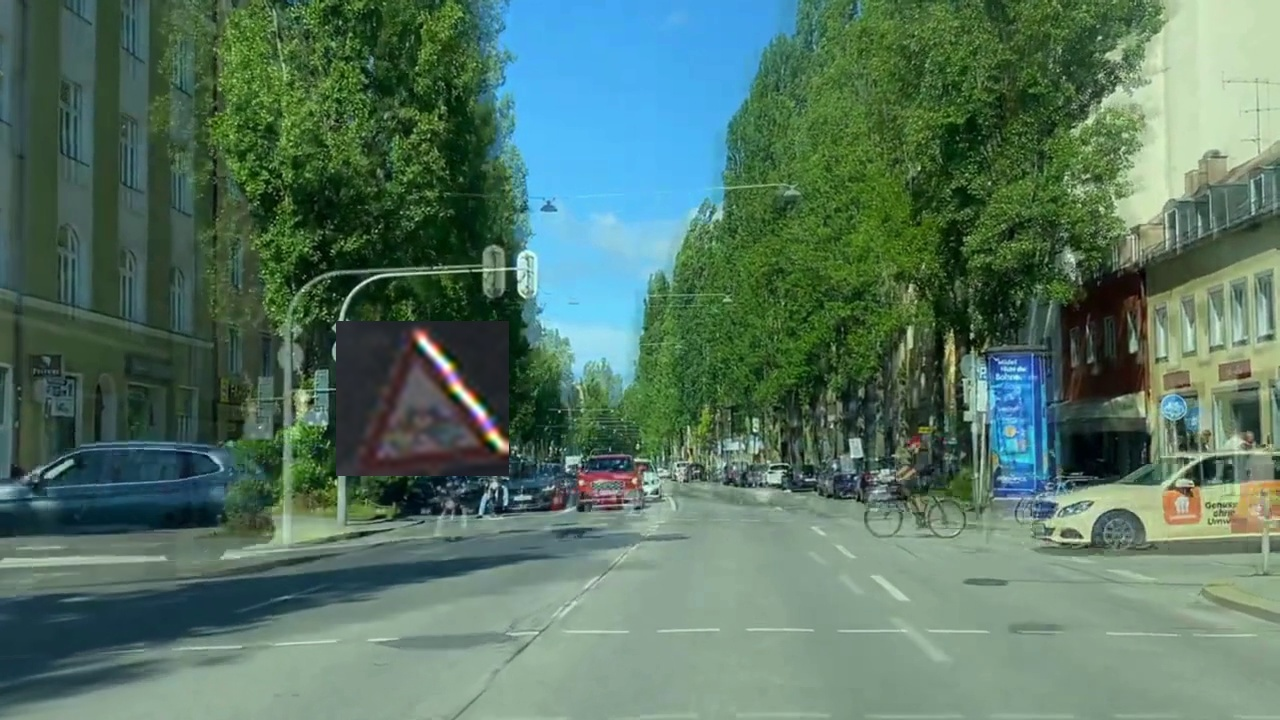Bicycles: (336, 321, 509, 476)
